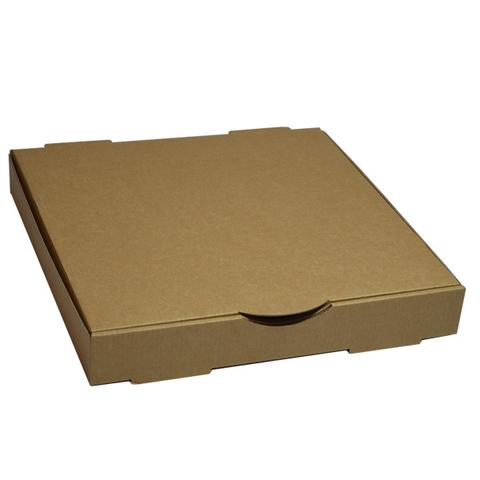Rec_Paper: (2, 83, 474, 400)
